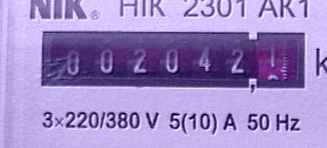0: (64, 45, 82, 75), (163, 44, 181, 74), (98, 44, 115, 75)
1: (265, 38, 279, 69)
2: (131, 45, 149, 74), (229, 44, 246, 73)
4: (196, 42, 214, 74)
screen: (36, 24, 311, 98)
